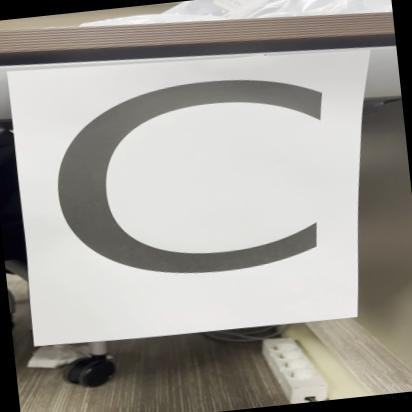seat: (8, 44, 360, 358)
